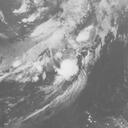cyclone: (56, 57, 82, 83)
